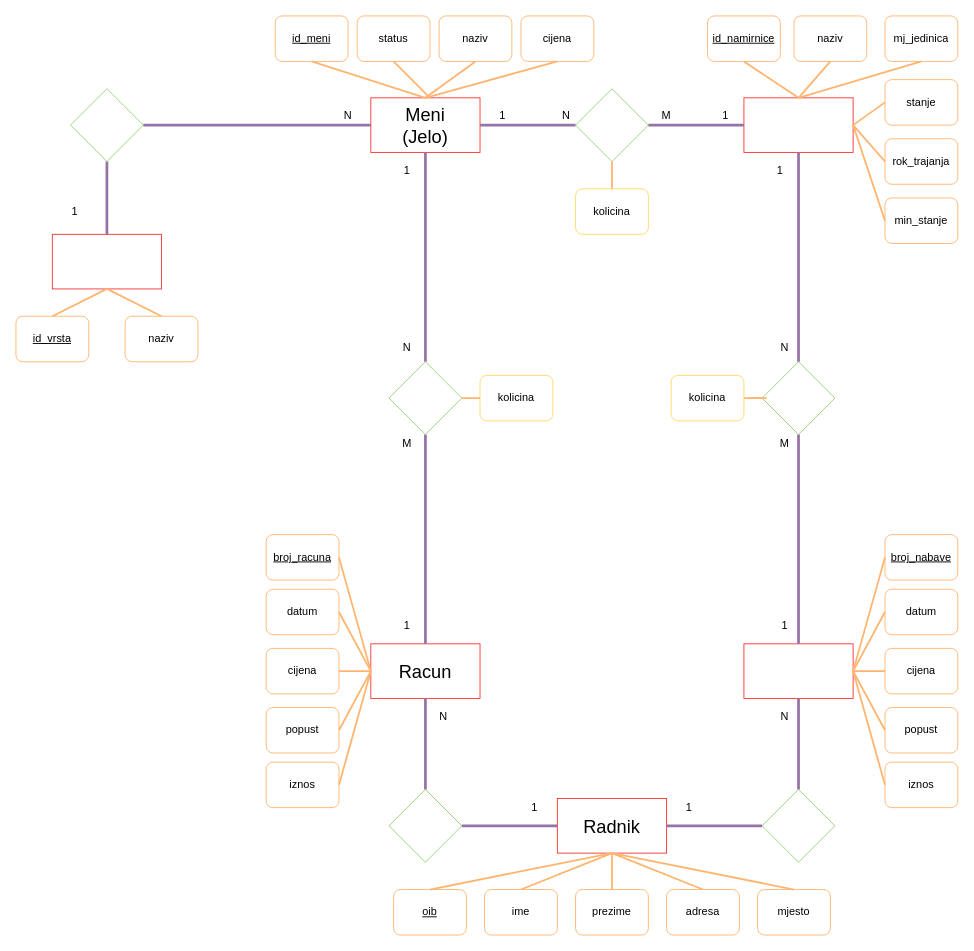
Some shapes in this 974 by 951 pixel diagram are drawn without their labels. The centre of each missing label's shape, as x and y in pixels:
ima: (106,125)
izdaje: (425,825)
Nabava: (798,670)
Namirnica: (798,124)
narucuje: (798,825)
priprema: (611,125)
stavke_ nabava: (798,398)
stavke_ racun: (425,398)
Vrsta: (106,261)
